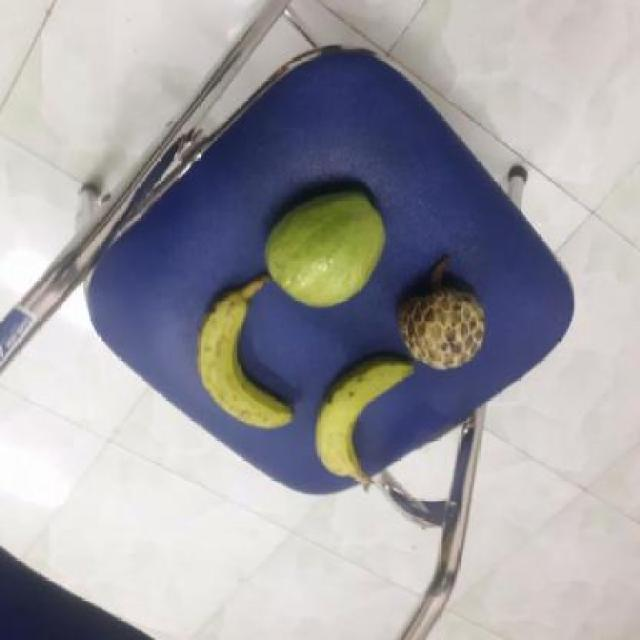banana: (190, 292, 296, 431), (308, 358, 414, 484)
guava: (259, 190, 387, 305)
sugar apple: (395, 270, 487, 368)
